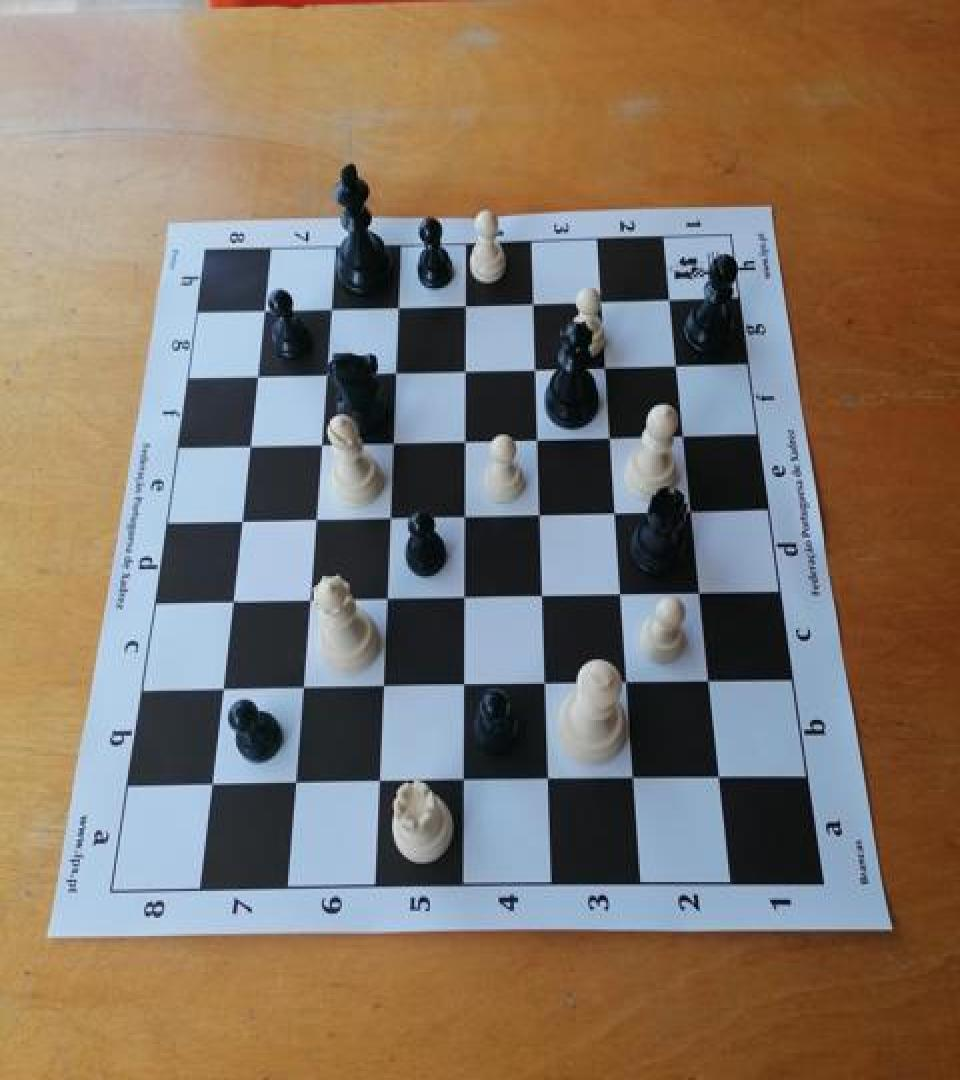xcorner: (193, 767, 223, 801), (277, 766, 307, 800), (361, 765, 391, 799), (446, 764, 476, 798), (532, 762, 562, 796), (618, 762, 648, 796), (704, 762, 734, 796), (203, 672, 233, 706), (365, 669, 395, 703), (447, 668, 477, 702), (529, 667, 559, 701), (611, 666, 641, 700), (694, 665, 724, 699), (213, 585, 243, 619), (290, 582, 320, 616), (369, 582, 399, 616), (447, 580, 477, 614), (526, 579, 556, 613), (605, 577, 635, 611), (685, 576, 715, 610), (222, 503, 252, 537), (296, 502, 326, 536), (372, 500, 402, 534), (447, 498, 477, 532), (523, 497, 553, 531), (600, 495, 630, 529), (676, 494, 706, 528), (230, 428, 260, 462), (302, 425, 332, 459), (375, 424, 405, 458), (448, 423, 478, 457), (595, 420, 625, 454), (669, 417, 699, 451), (237, 356, 267, 390), (378, 353, 408, 387), (448, 352, 478, 386), (519, 350, 549, 384), (590, 348, 620, 382), (661, 346, 691, 380), (245, 291, 275, 325), (312, 289, 342, 323), (380, 287, 410, 321), (448, 286, 478, 320), (585, 281, 615, 315), (654, 280, 684, 314), (284, 672, 314, 705), (521, 421, 551, 454), (307, 356, 337, 389), (517, 284, 547, 317)
